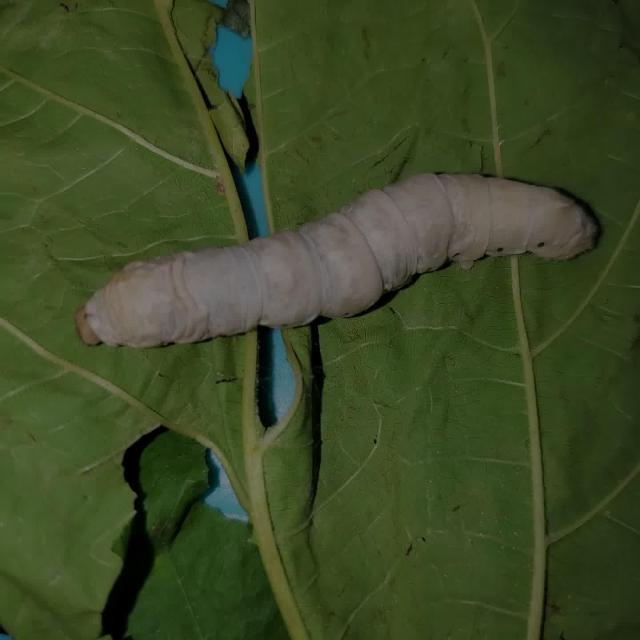Grasserie: (64, 158, 606, 356)
